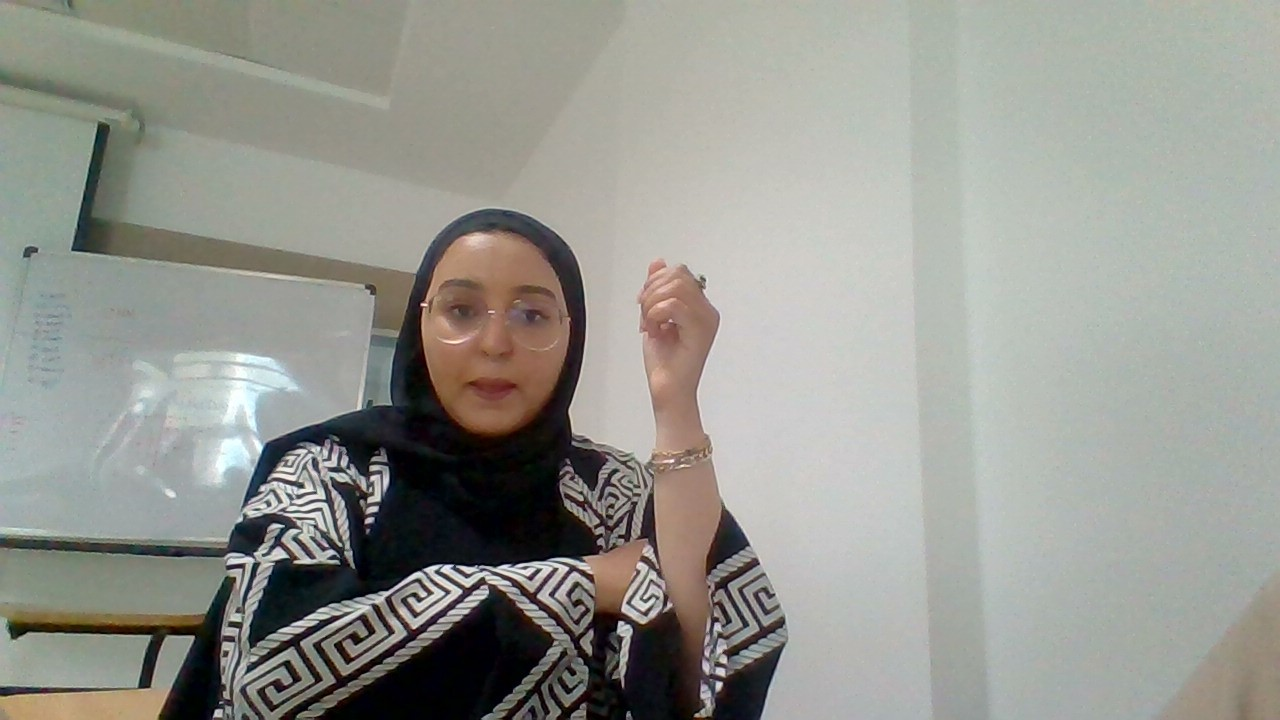morning: (575, 233, 765, 674)
